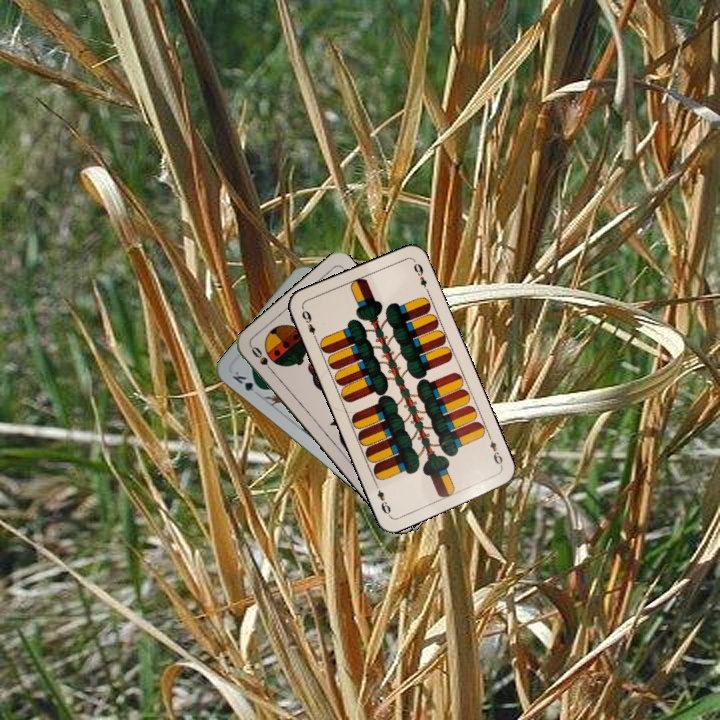E9: (484, 431, 505, 470), (298, 306, 320, 343)
GK: (228, 367, 265, 395)
SO: (247, 342, 278, 377)
